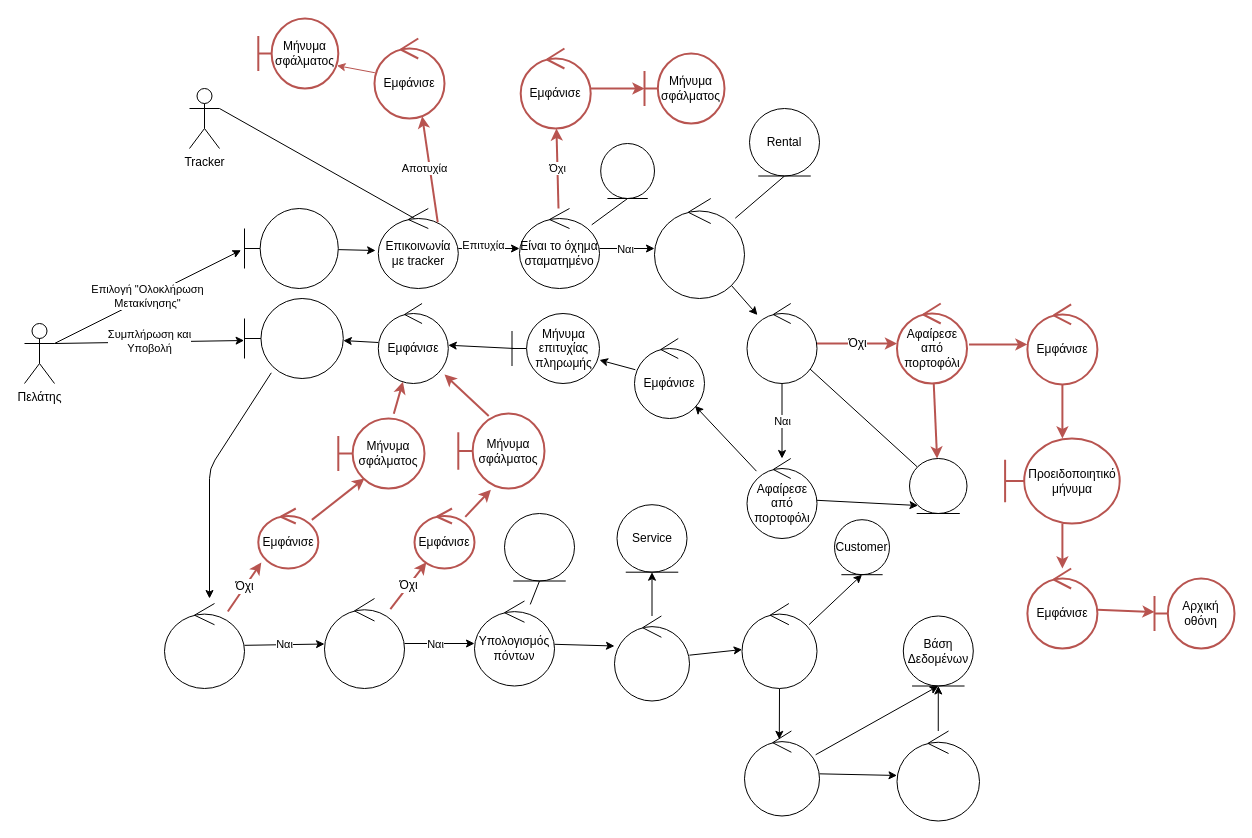
This 1252x838 diagram has some shape labels left out. The shapes that lost their labels are listed below. From the top down, each one's centre as x and y in pixels, then its label:
At (627,170): "Vehicle Tracker".
At (291,248): "Οθόνη Μετακίνησης".
At (699,248): "Υπολογισμός χρονοχρέωσης".
At (293,338): "Επιβεβαίωση ασφάλισης οχήματος".
At (781,343): "Επαρκές υπόλοιπο;".
At (937,486): "Wallet".
At (539,546): "VehicleTracker".
At (204,645): "Έχουν συμπληρωθεί όλα τα πεδία".
At (364,643): "Φωτογραφίες εντός ορίου μεγέθους;".
At (652,658): "Ενημέρωση πόντων διαδρομής".
At (779,645): "Ενημέρωση πόντων στο προφίλ".
At (782,773): "Ενημέρωση πόντων στη βάση".
At (938,775): "Αποθήκευση μετακίνησης".
